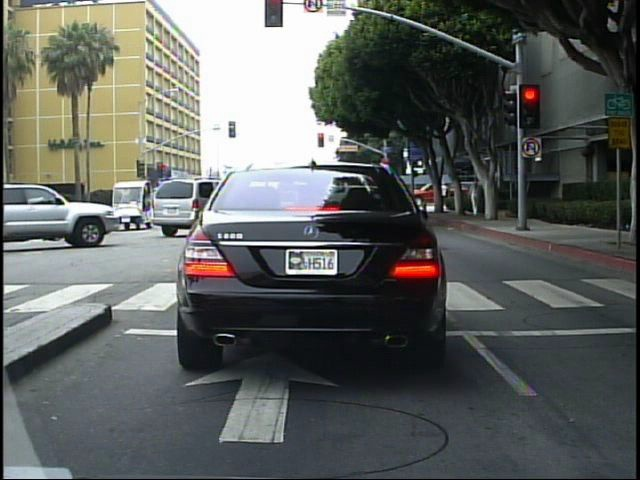person: (632, 166, 638, 277), (468, 179, 483, 218), (437, 179, 451, 212), (636, 166, 638, 276)
